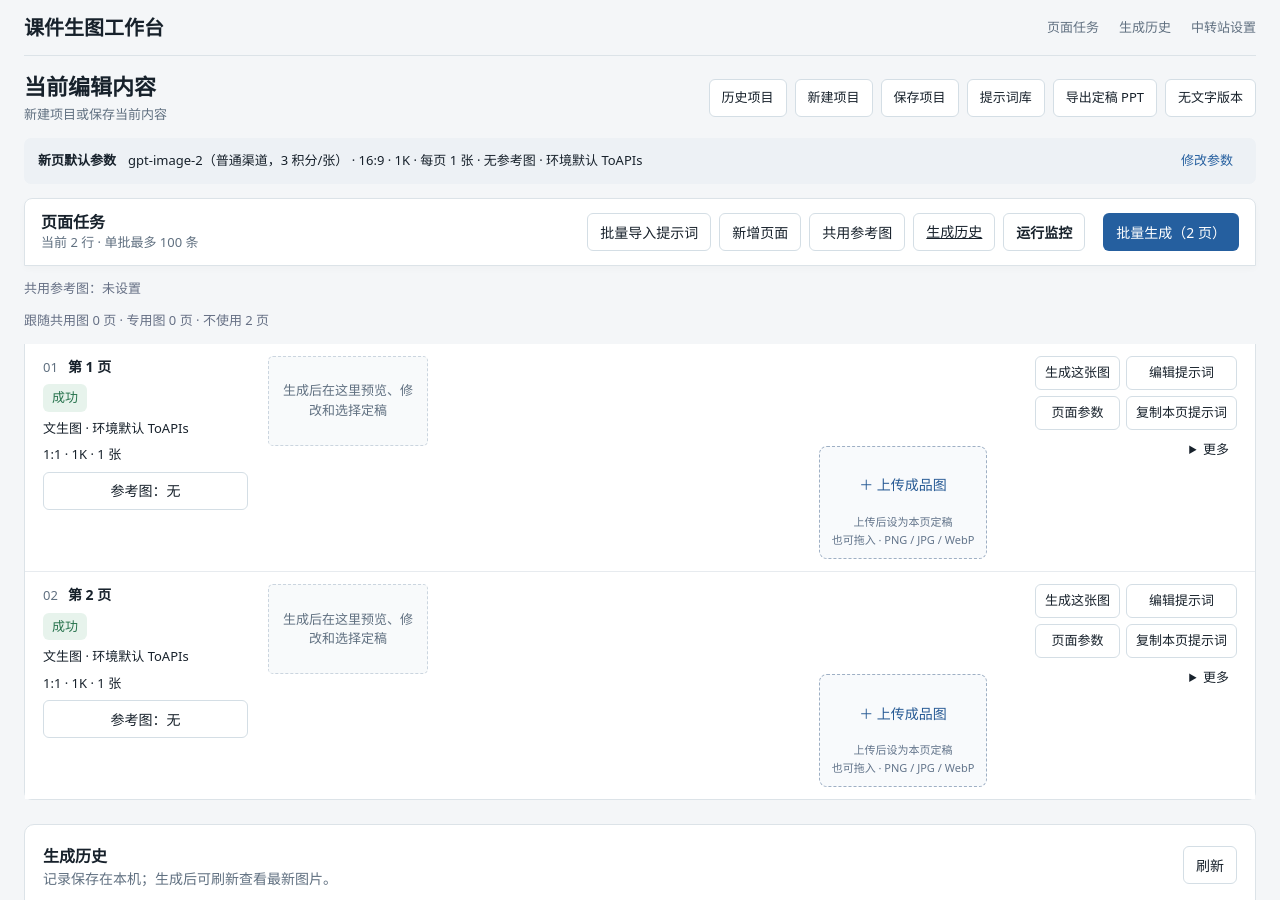
Test: saves images from two old generation batches before opening a new project
Click the button "新建项目". click: {"x": 834, "y": 98}
box: [795, 79, 873, 117]
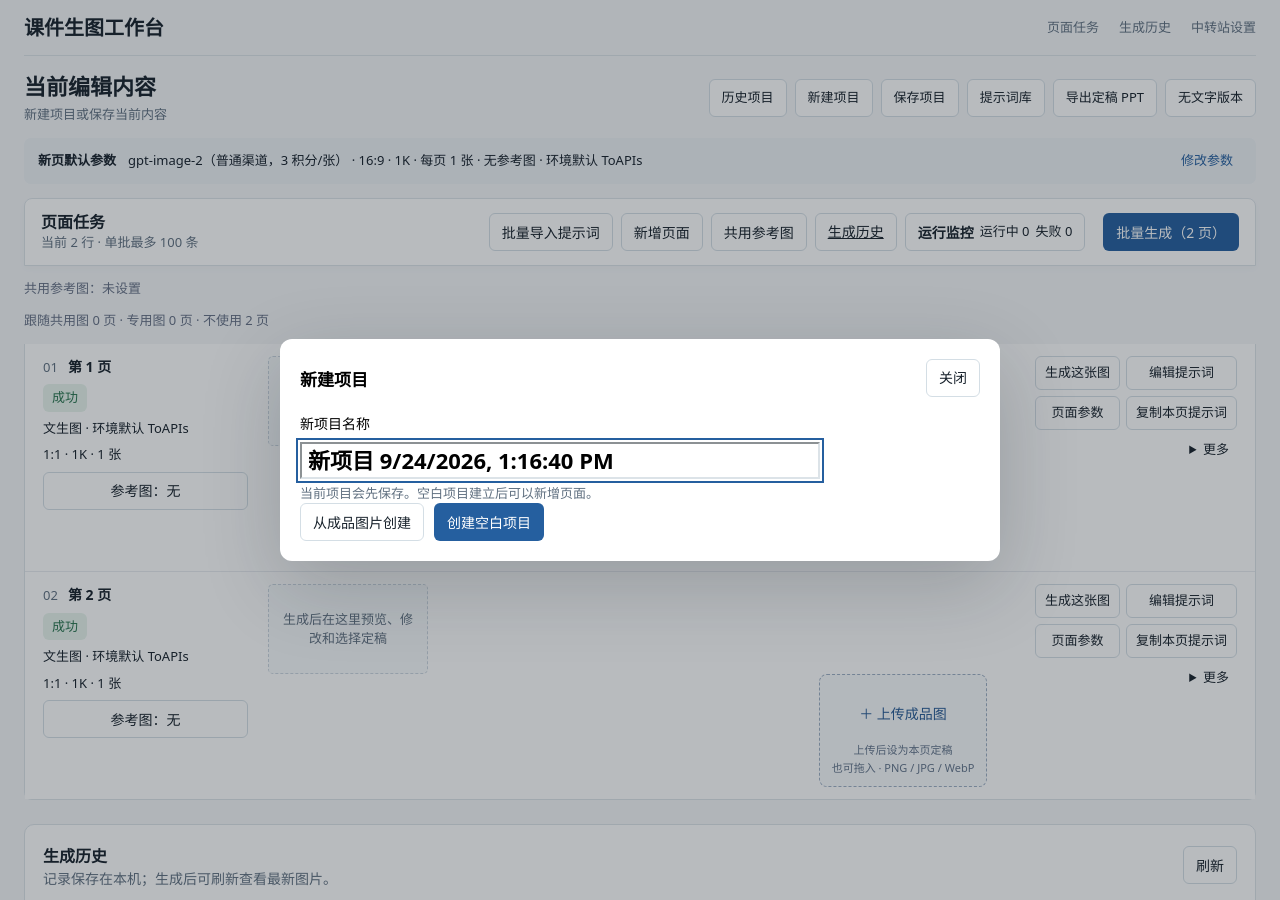
Replace the text in the field labelled "新项目名称" with "新项目". click: {"x": 560, "y": 460}
box: [300, 442, 820, 479]
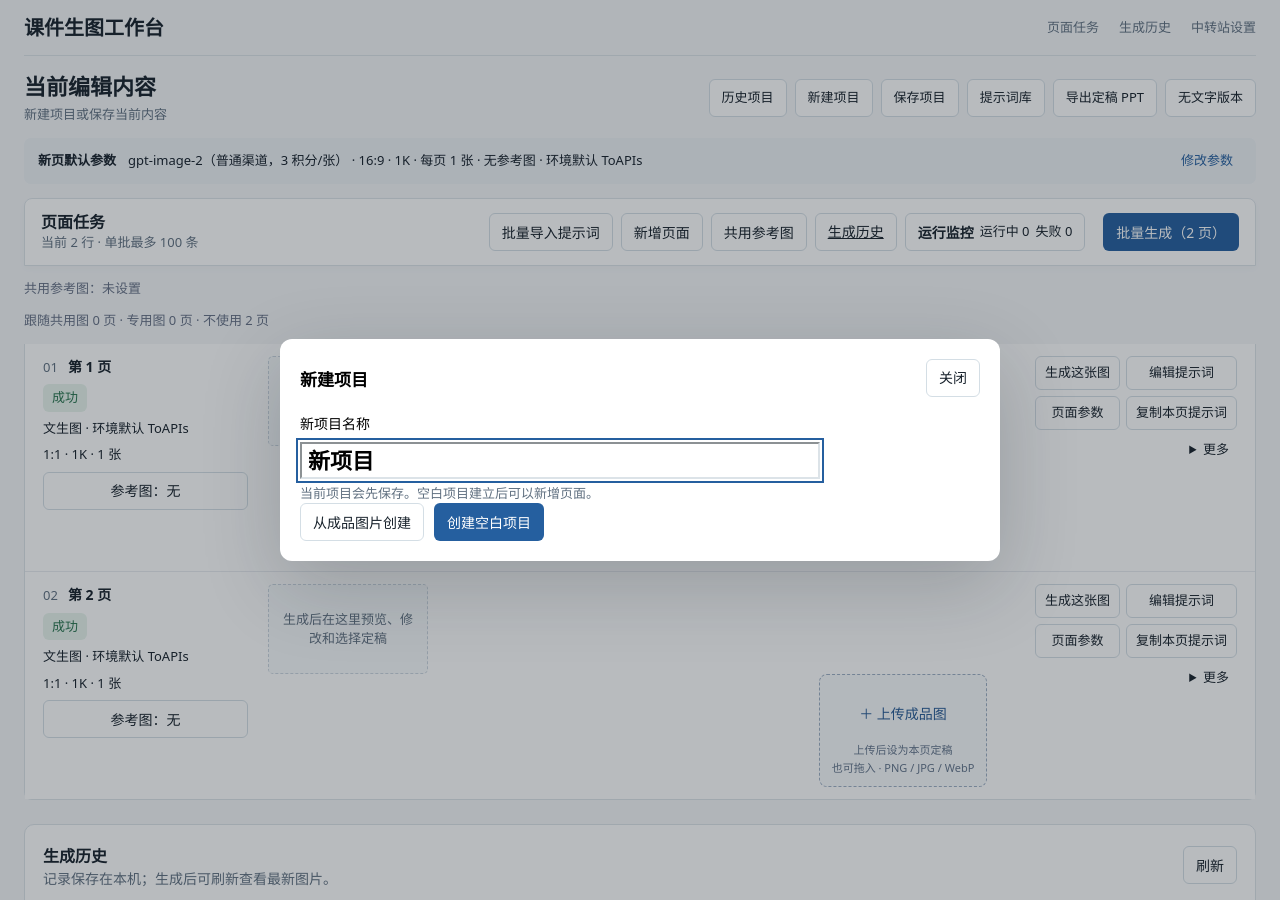
Click the button "创建空白项目". click: {"x": 489, "y": 522}
box: [434, 503, 544, 541]
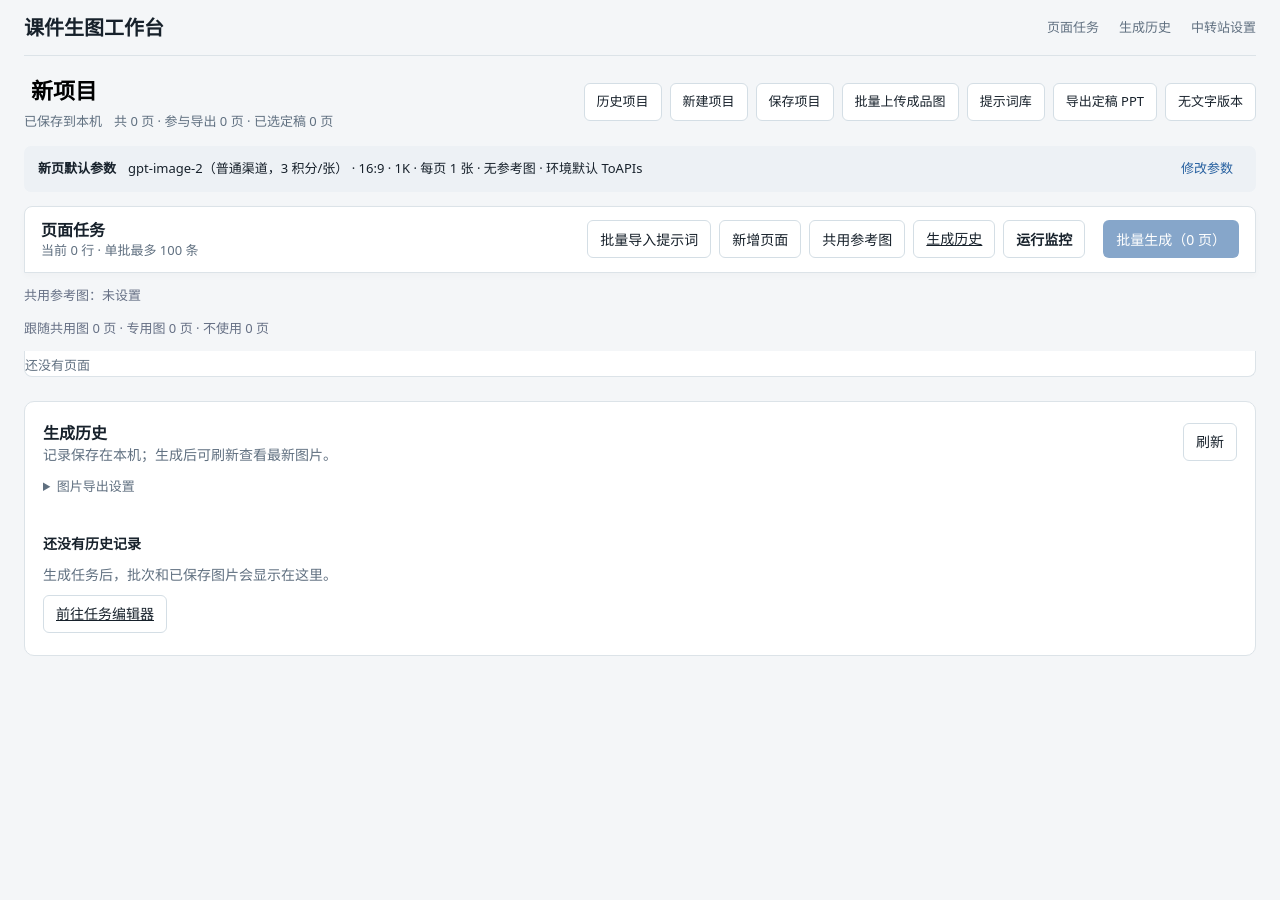
Expected: the text "还没有页面" is shown, [25, 356, 90, 374]
